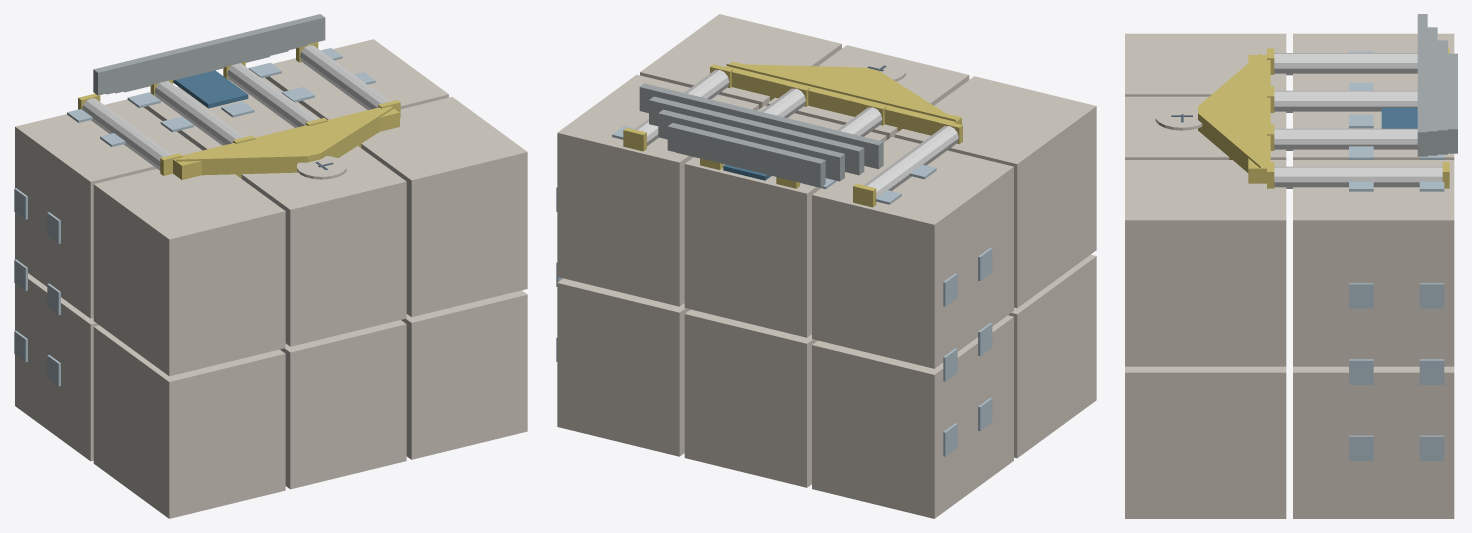
Rendered from building-bank.glb.
3 views of the same model, side by side, from view 1: azimuth 30°, elevation 25°; view 2: azimuth 150°, elevation 25°; view 3: azimuth 270°, elevation 25° (orthographic). The views are drawn at different scales.
Parts seen in each view (by area): view 1: world; view 2: world; view 3: world.
Boxes of the visible parts, <box> form: world: <box>14,14,527,518</box>; world: <box>556,14,1096,518</box>; world: <box>1125,14,1457,518</box>.
Size of the model in its own units: 20.36 by 17.35 by 14.86.
